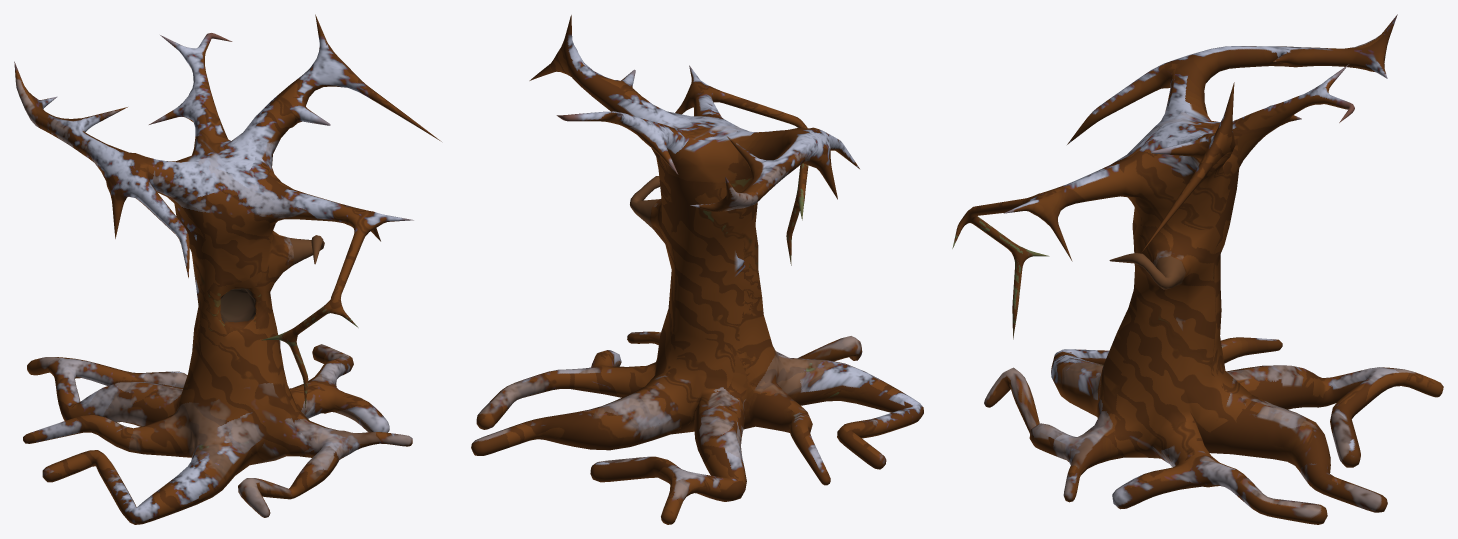
The model's file is OldTree.fbx.
3 views of the same model, side by side, from view 1: azimuth 30°, elevation 25°; view 2: azimuth 150°, elevation 25°; view 3: azimuth 270°, elevation 25° (orthographic). The views are drawn at different scales.
Parts seen in each view (by area): view 1: BigTree.001; view 2: BigTree.001; view 3: BigTree.001.
Part boxes in pixels (<box>): BigTree.001: <box>14,14,441,524</box>; BigTree.001: <box>471,15,923,524</box>; BigTree.001: <box>952,14,1443,524</box>.
Bounding box in the file's own units: 7753 × 7872 × 8181.
